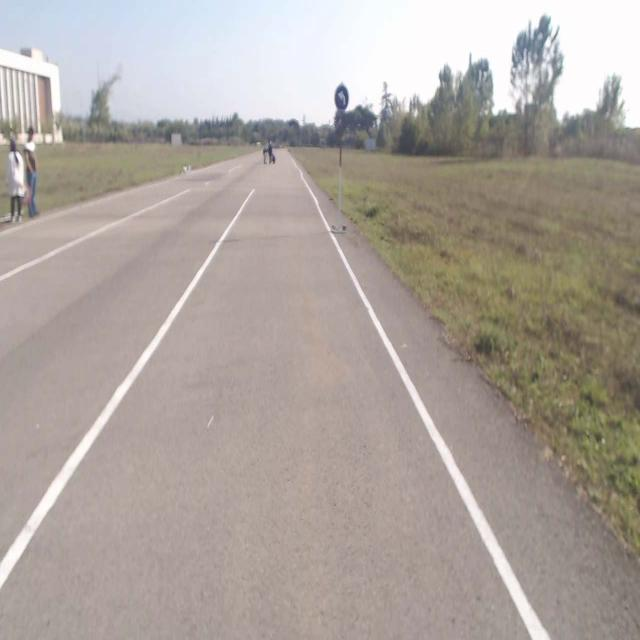sol: (335, 84, 349, 109)
